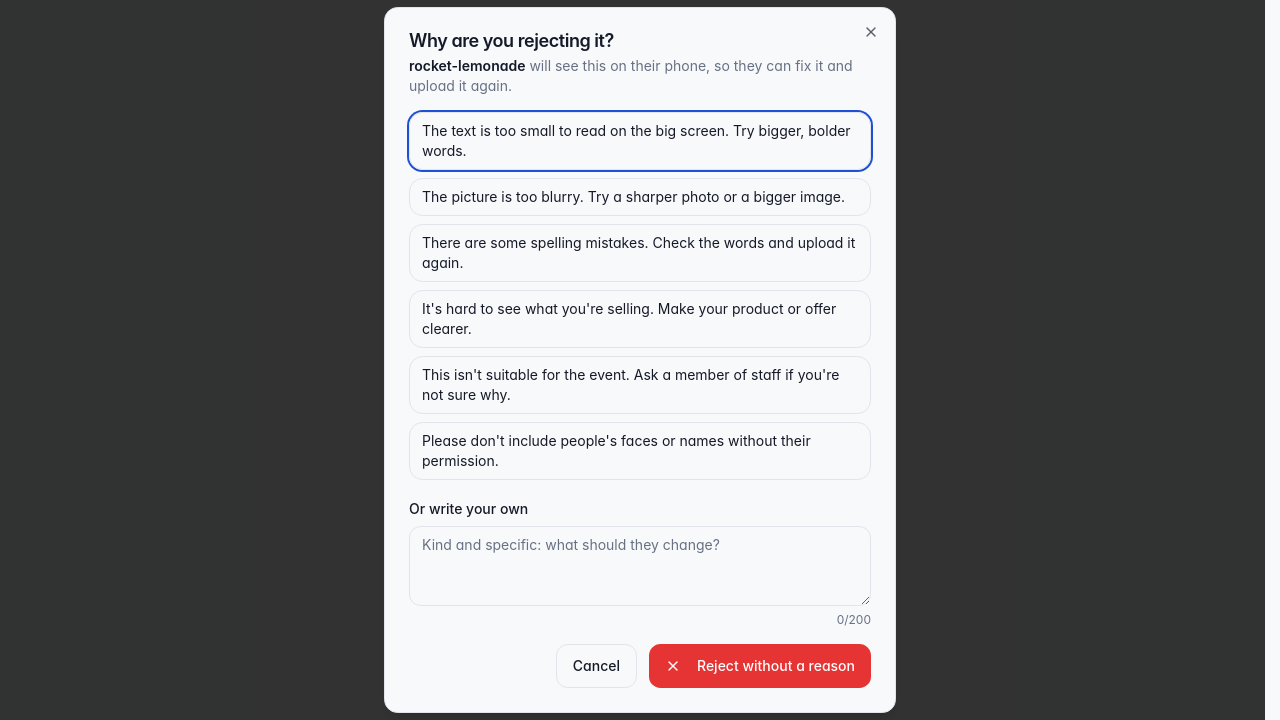
Test: RejectDialog (issue #38) › rejects with a quick reason
Later steps or results of the test are not shown.
Click the button "The text is too small to read on the big screen. Try bigger, bolder words.". click: {"x": 640, "y": 141}
box: [409,112,871,170]
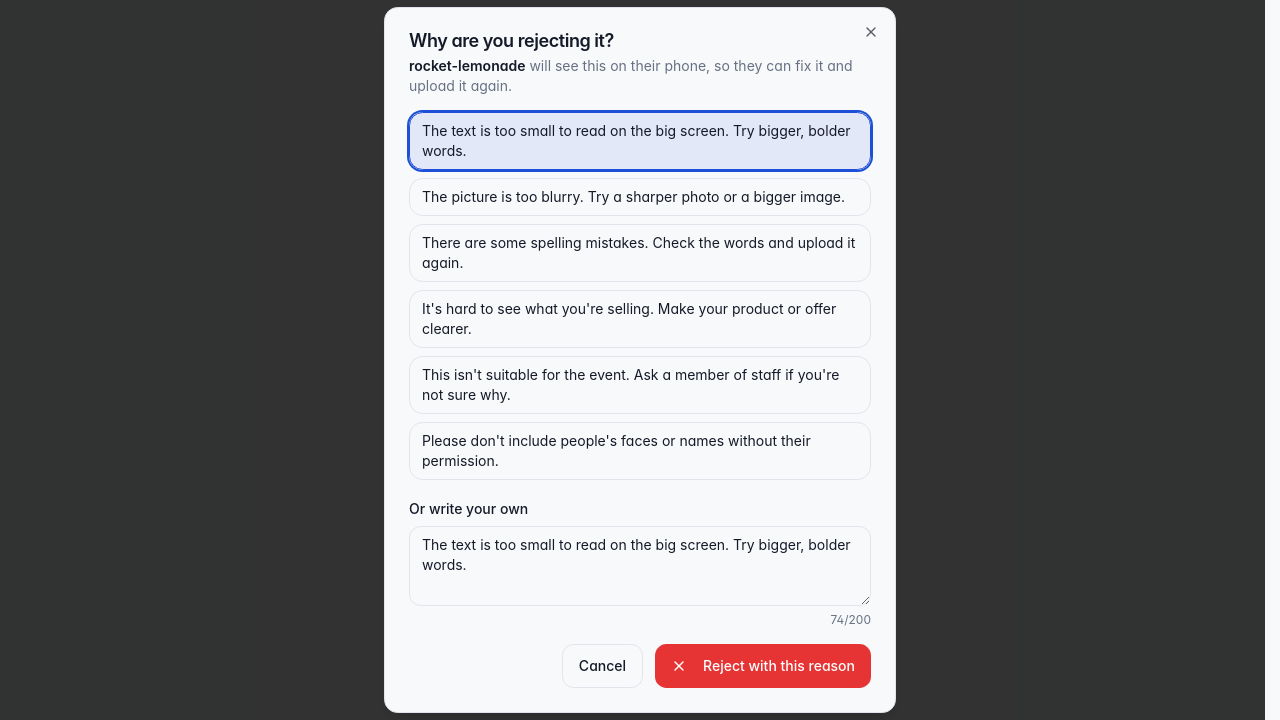
Expected: the button "The text is too small to read on the big screen. Try bigger, bolder words." is pressed, [409,112,871,170]
